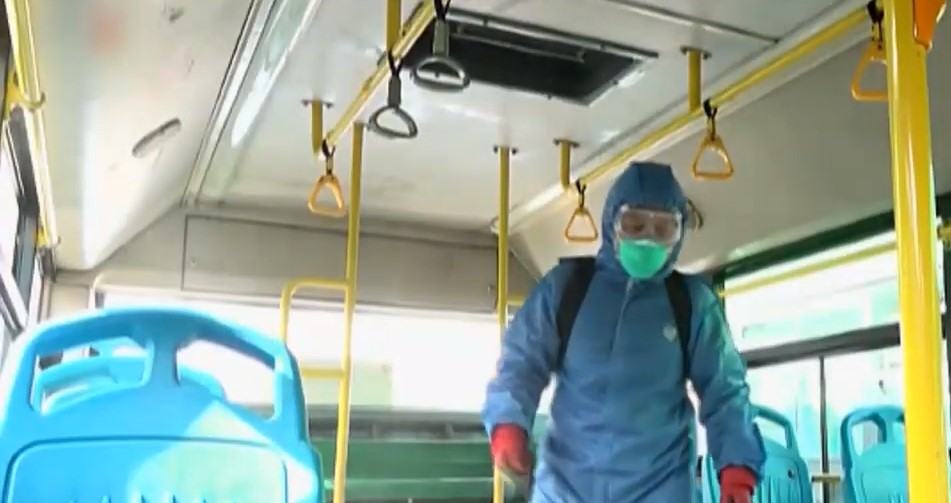face_with_mask: (598, 155, 691, 292)
